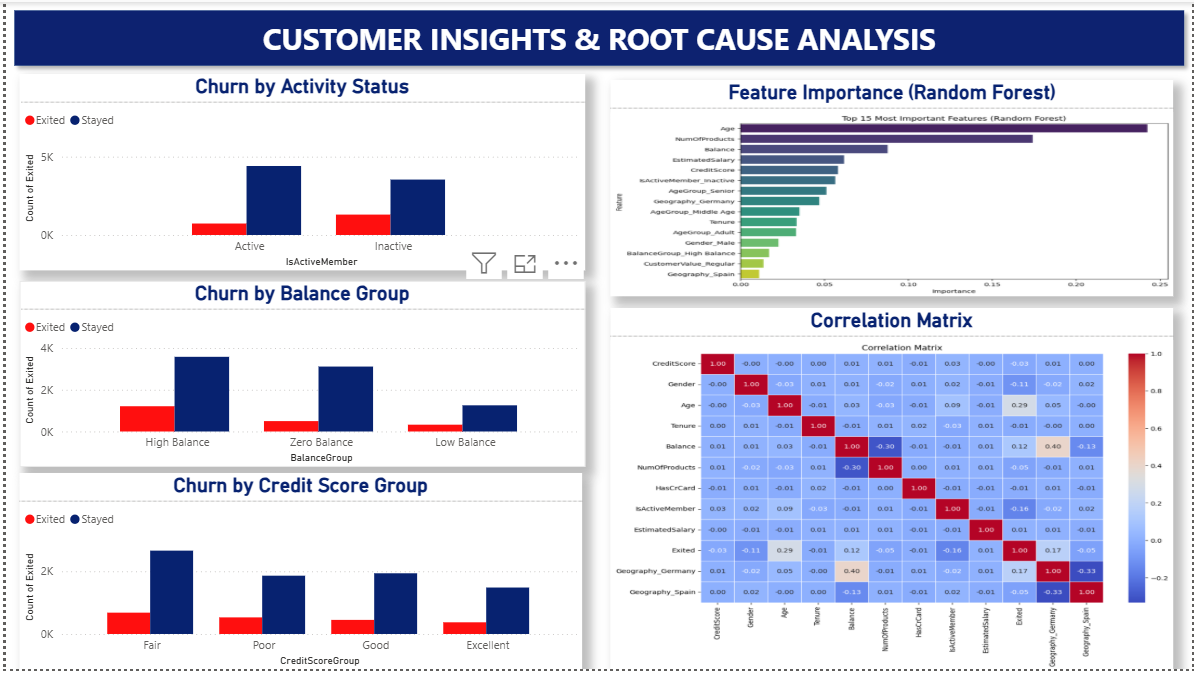

Layout of this report page (visuals, bound fields, positions):
{"tool":"powerbi","page":{"name":"Page 2","canvas":[1280,720],"ordinal":1},"visuals":[{"type":"shape","box":[0,0,1280.8,77.7],"z":0},{"type":"clusteredColumnChart","title":"Churn by Activity Status","fields":{"Category":["Churn_Modelling_Cleaned_data.IsActiveMember"],"Y":["CountNonNull(Churn_Modelling_Cleaned_data.Exited)"],"Series":["Churn_Modelling_Cleaned_data.Exited"]},"box":[14.6,77.7,610.4,212.1],"z":1000},{"type":"clusteredColumnChart","title":"Churn by Balance Group","fields":{"Y":["CountNonNull(Churn_Modelling_Cleaned_data.Exited)"],"Series":["Churn_Modelling_Cleaned_data.Exited"],"Category":["Churn_Modelling_Cleaned_data.BalanceGroup"]},"box":[14.6,301.2,610.4,200.8],"z":2000},{"type":"clusteredColumnChart","title":"Churn by Credit Score Group","fields":{"Category":["Churn_Modelling_Cleaned_data.CreditScoreGroup"],"Y":["CountNonNull(Churn_Modelling_Cleaned_data.Exited)"],"Series":["Churn_Modelling_Cleaned_data.Exited"]},"box":[14.6,508.4,607.2,212.1],"z":3000},{"type":"image","title":"Feature Importance (Random Forest)","box":[652.5,84.2,607.2,233.2],"z":4000},{"type":"image","title":"Correlation Matrix","box":[652.5,330.3,607.2,390.2],"z":5000}]}

Visuals, with their boxes in screenshot pixels (x1, y1, x2, y2), scaled from the page's 1280x720 canvas onto the 1194x673 screenshot:
shape: select_region(0, 0, 1193, 73)
"Churn by Activity Status" clusteredColumnChart: select_region(14, 73, 583, 271)
"Churn by Balance Group" clusteredColumnChart: select_region(14, 282, 583, 469)
"Churn by Credit Score Group" clusteredColumnChart: select_region(14, 475, 580, 672)
"Feature Importance (Random Forest)" image: select_region(609, 79, 1175, 297)
"Correlation Matrix" image: select_region(609, 309, 1175, 672)
